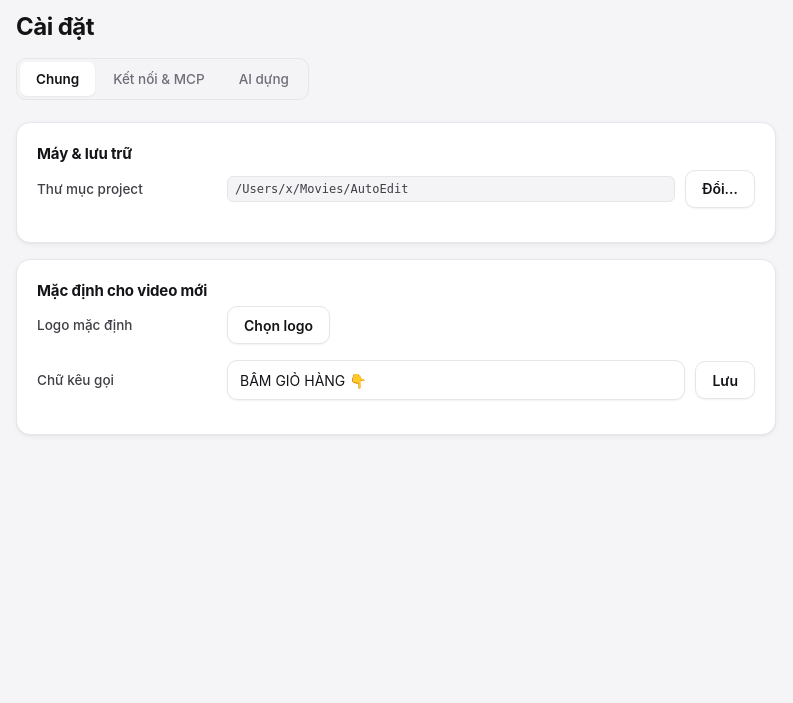
it: no logout button for Claude Code login
Expected: the text "/Users/x/Movies/AutoEdit" is shown, [227, 176, 675, 202]
Click the tab "AI dựng" at (264, 79), box [239, 71, 289, 87]
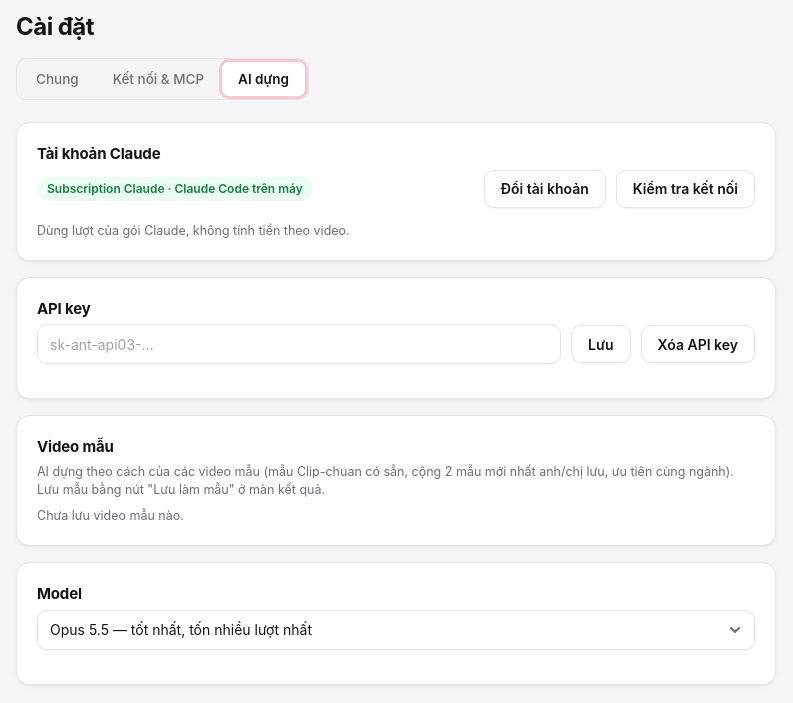
Expected: the text "Subscription Claude · Claude Code trên máy" is shown, [37, 177, 313, 201]
